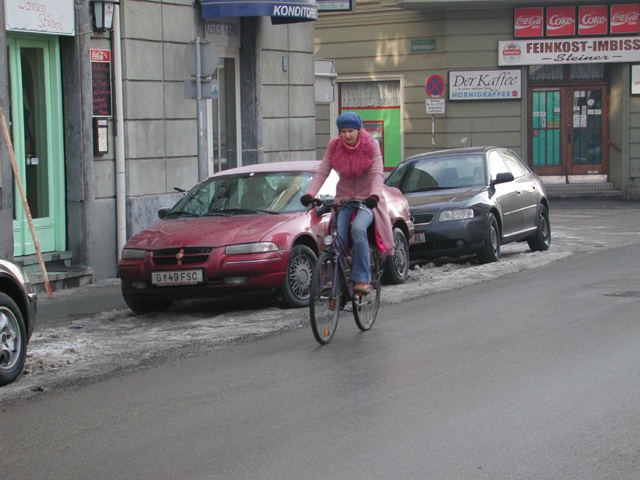person: (302, 114, 392, 314)
